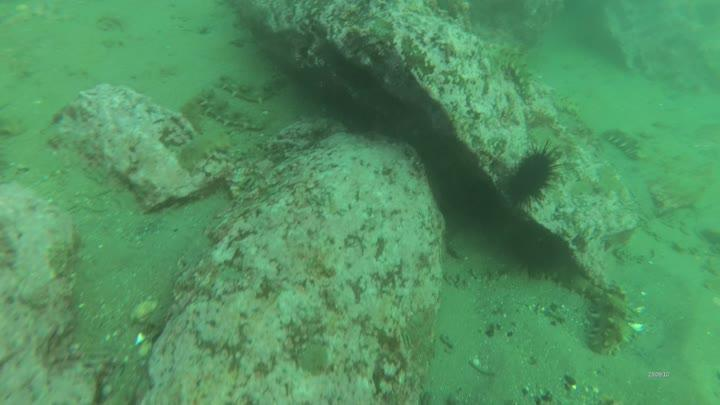urchin: (498, 138, 556, 210)
